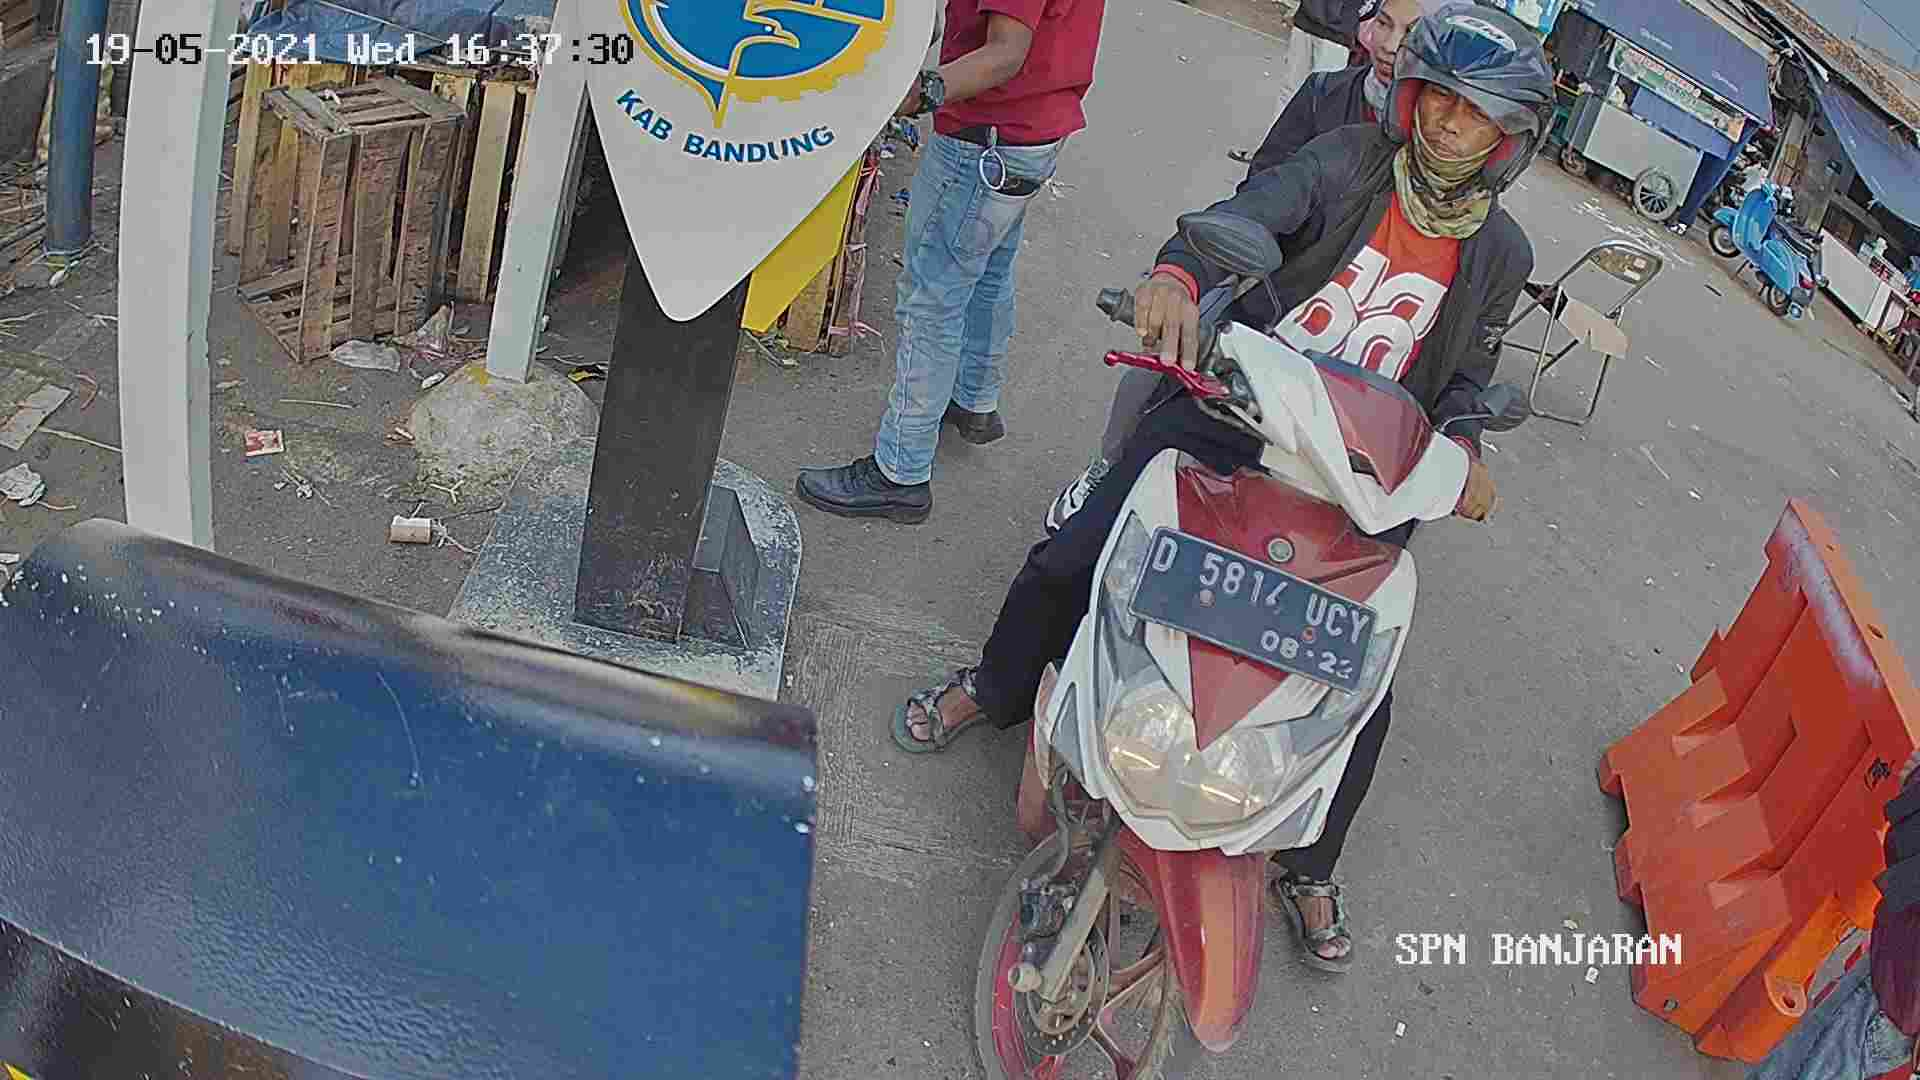motor: (971, 272, 1489, 1080)
